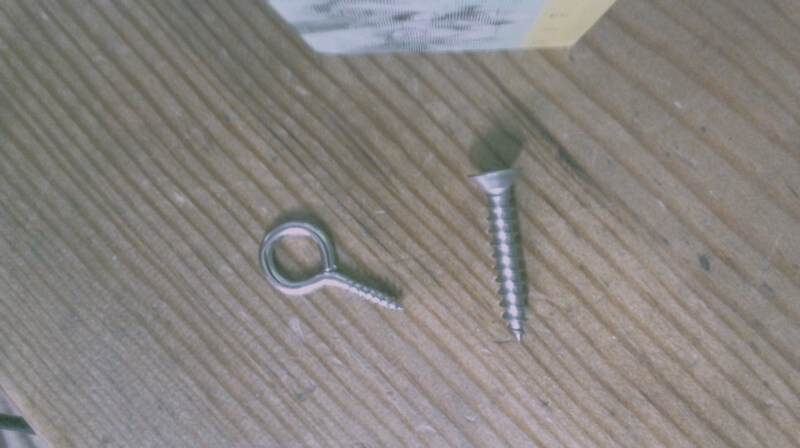O001: (255, 213, 413, 315)
S001: (465, 155, 539, 343)
